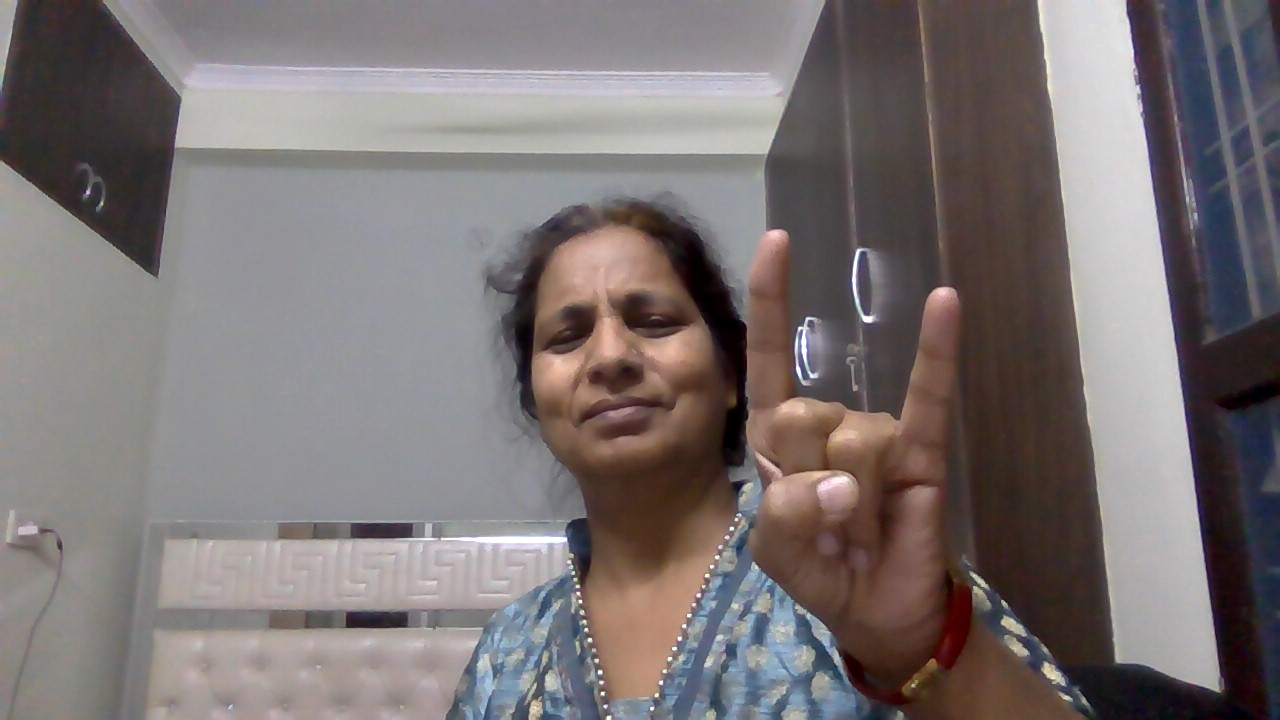Select All: (737, 213, 969, 649)
